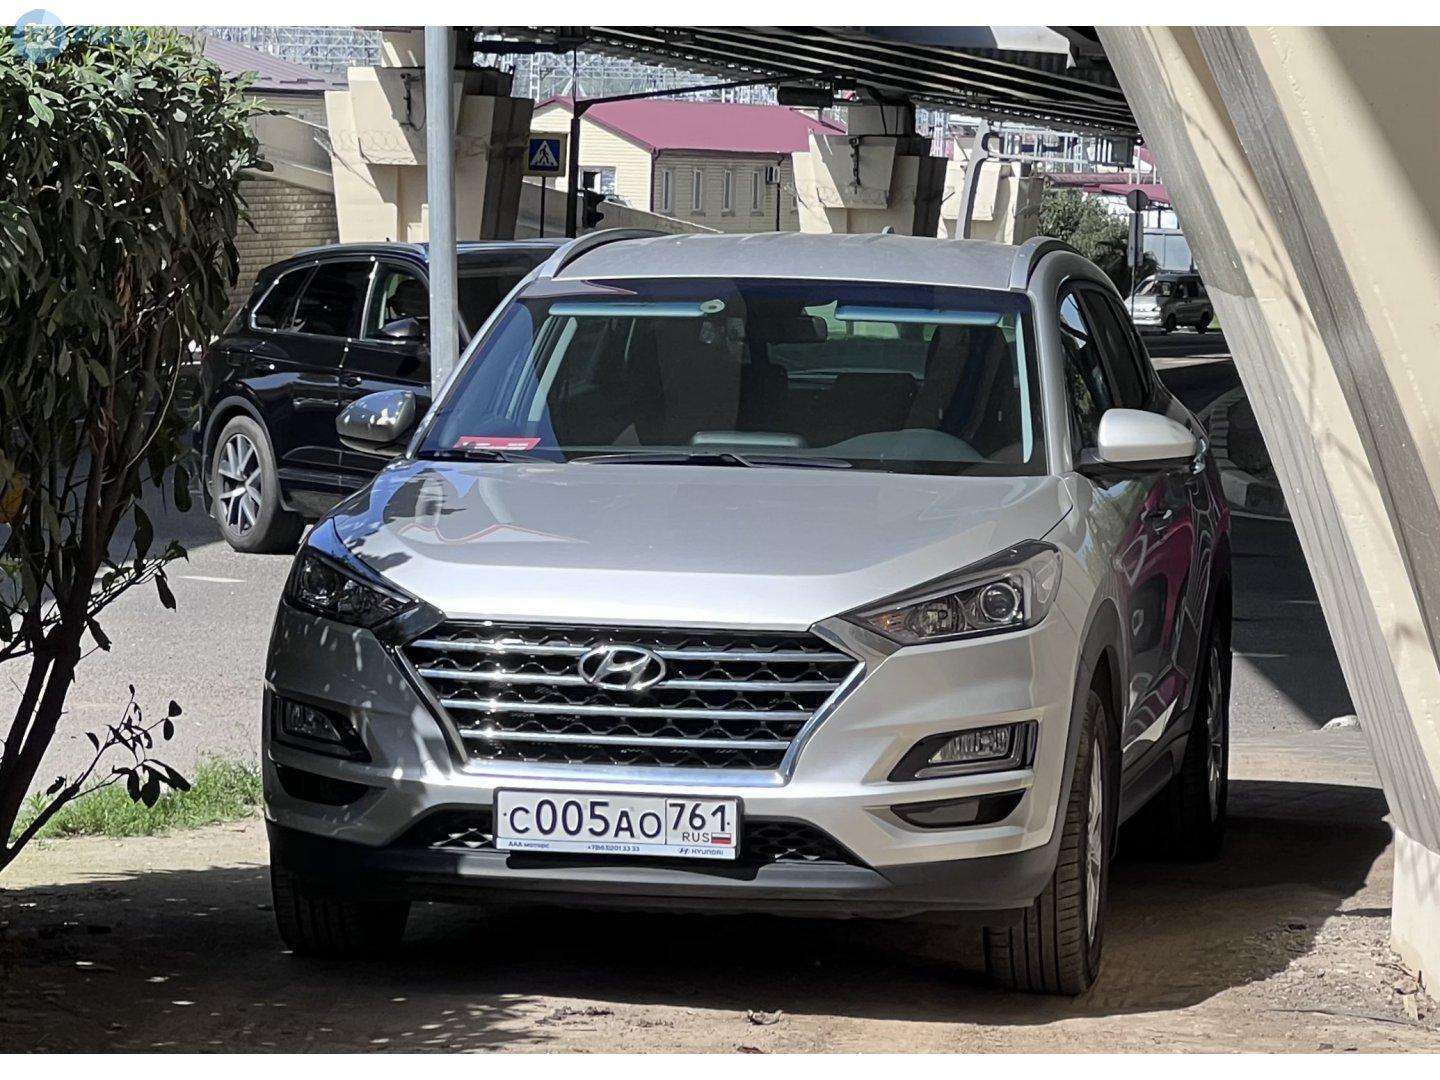license-plateSW: (502, 794, 740, 848)
